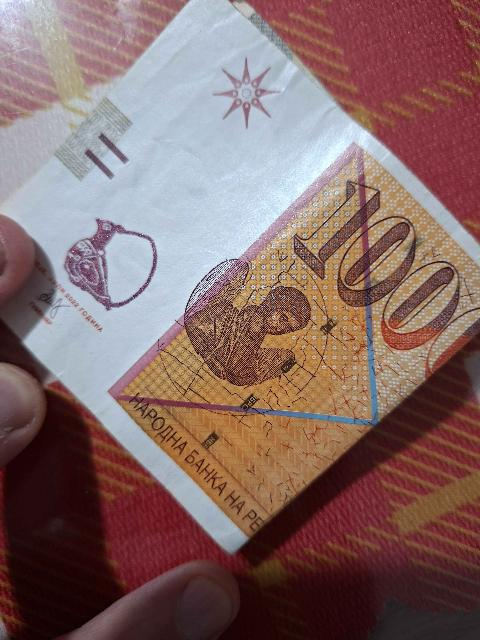note: (0, 0, 479, 546)
